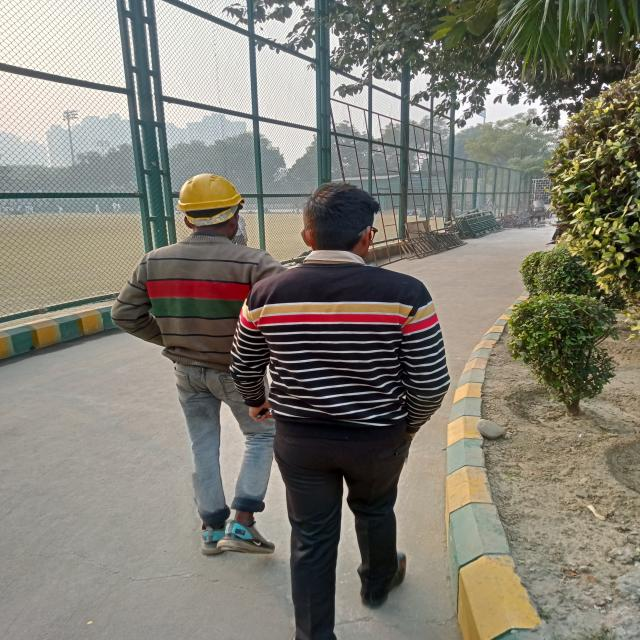no jacket: (118, 171, 284, 557)
unsafe: (238, 181, 447, 640)
